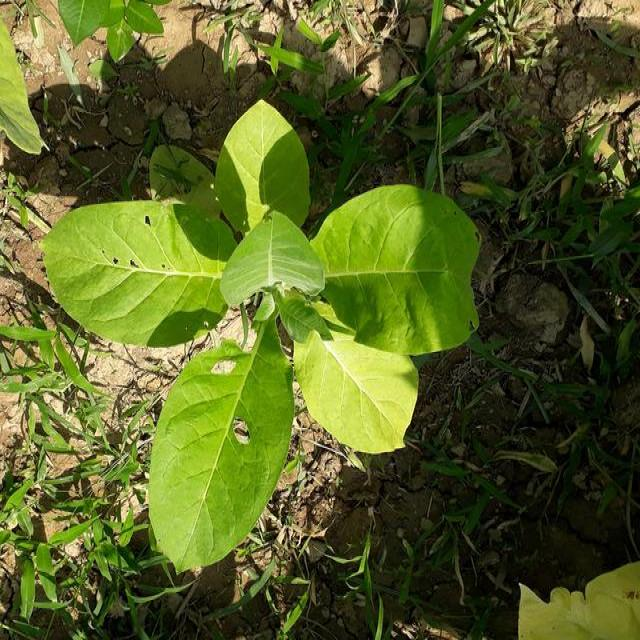crop: (54, 116, 482, 555), (499, 569, 639, 640)
